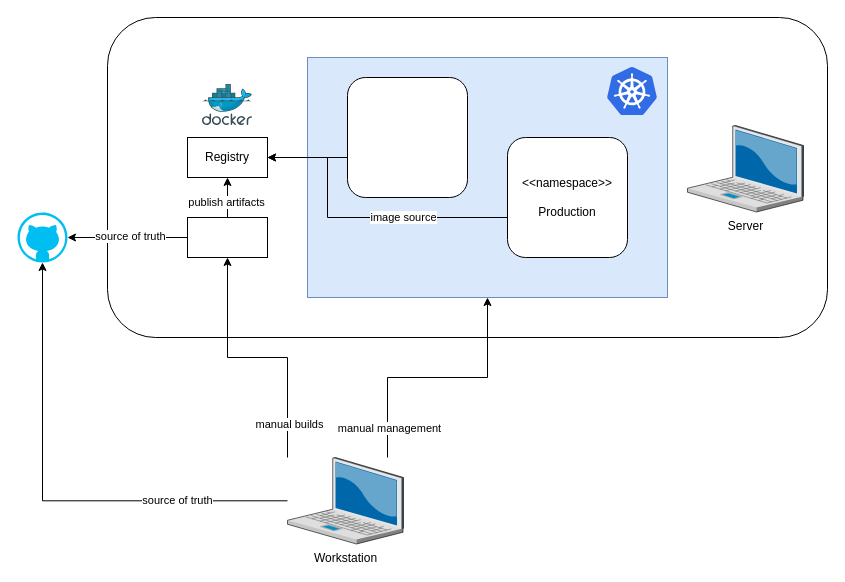
Image size: 845x582. Some labels were removed from this diagram. Each missing label, with the centre of its shape:
"<<namespace>> Development Testing" goes at pixel 407 137.
"Jenkins" goes at pixel 227 237.
